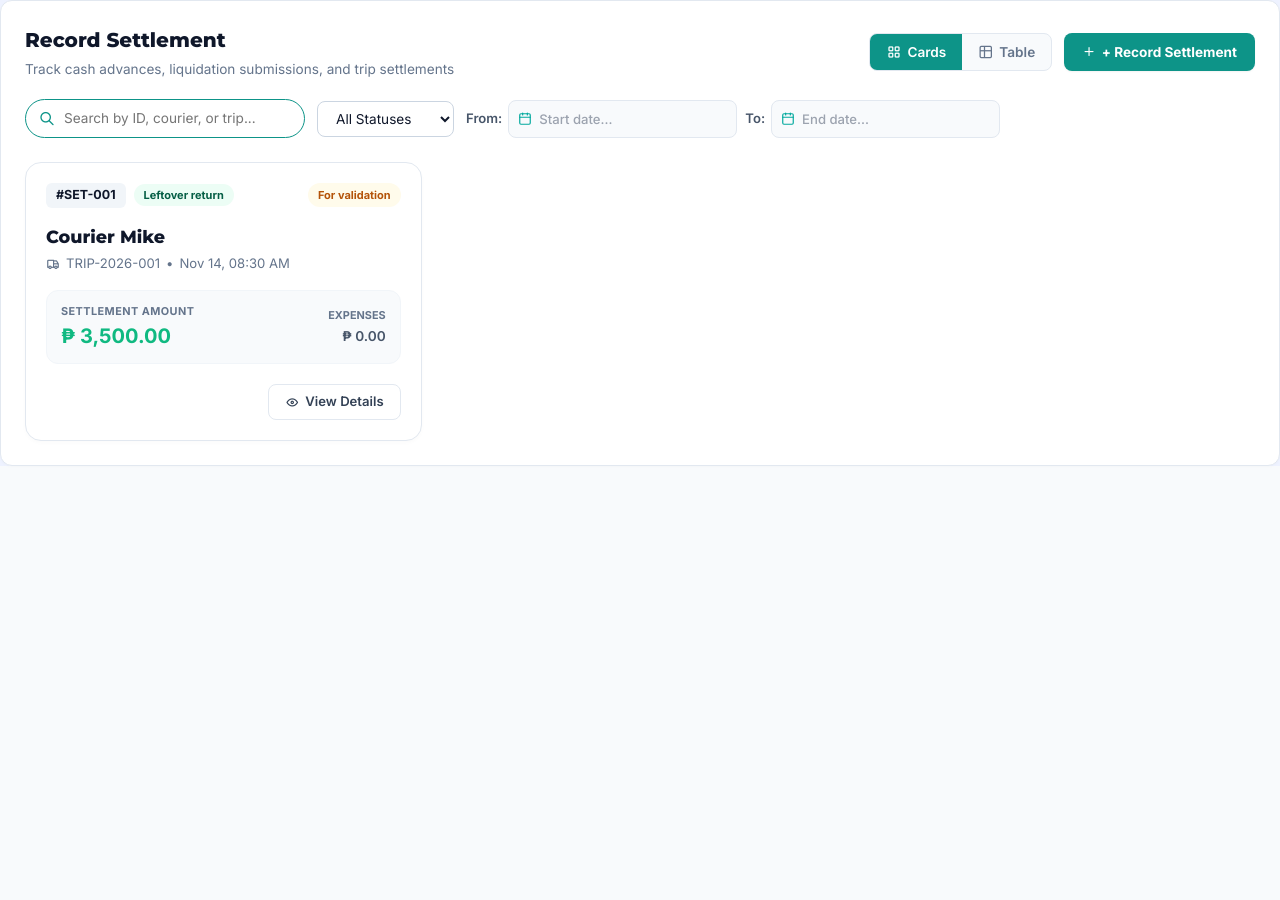
Test: EMP-001 (Finance Manager) — Complete Page-by-Page Workflow & Verification › Page 11: /record-settlement (Record Settlement) › loads settlement history and submits new settlement
The image size is (1280, 900).
Later steps or results of the test are not shown.
Expected: the heading "Courier Mike" is shown, [46,226,165,246]
Click the button "+ Record Settlement".
click(1160, 52)  # box [1064,33,1255,71]
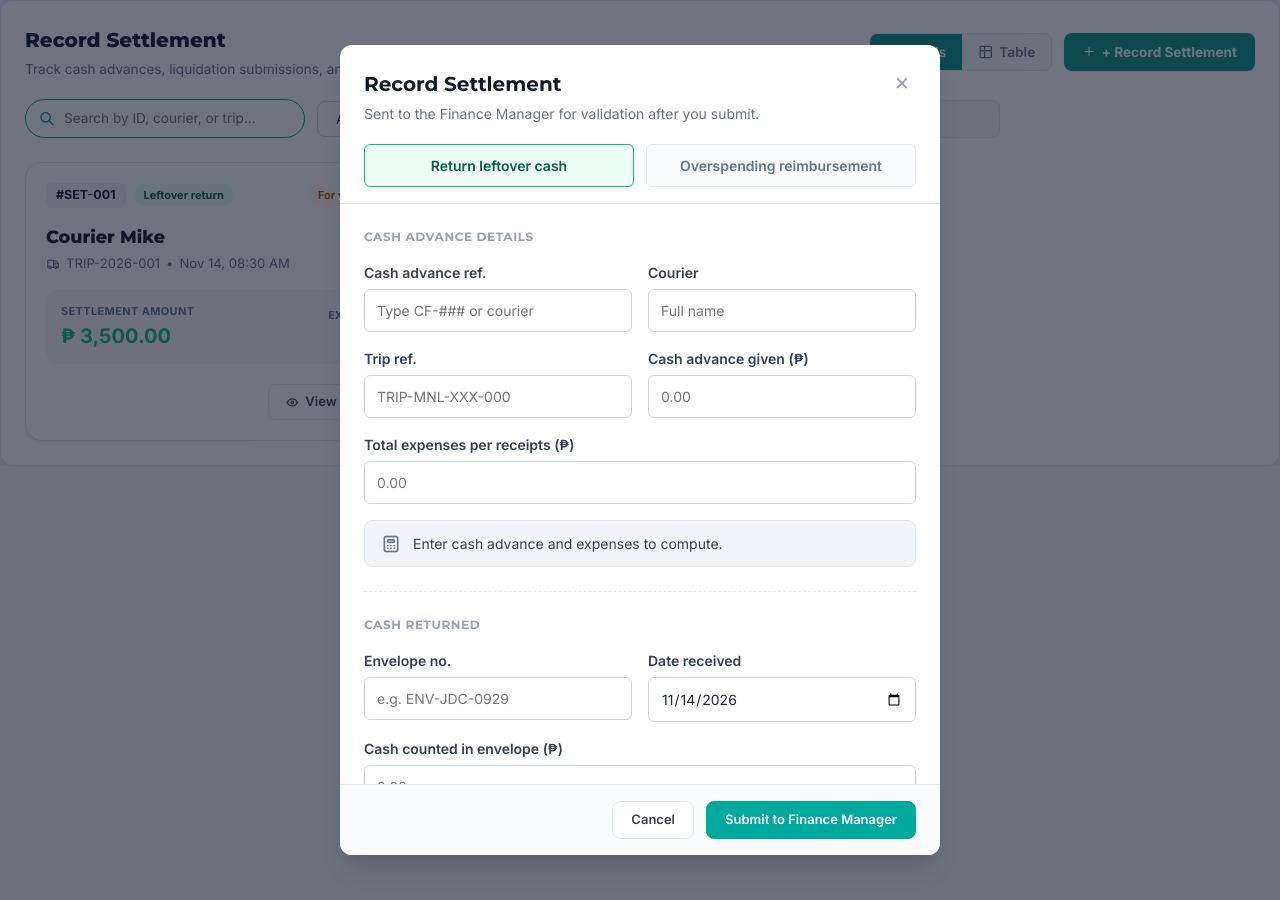
Result: the field with placeholder "Full name" is shown at [648,289,916,332]
